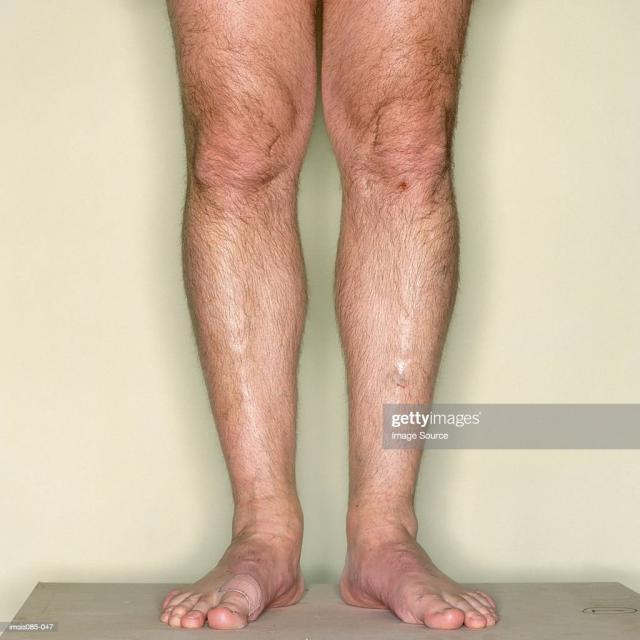Normal: (175, 125, 470, 455)
